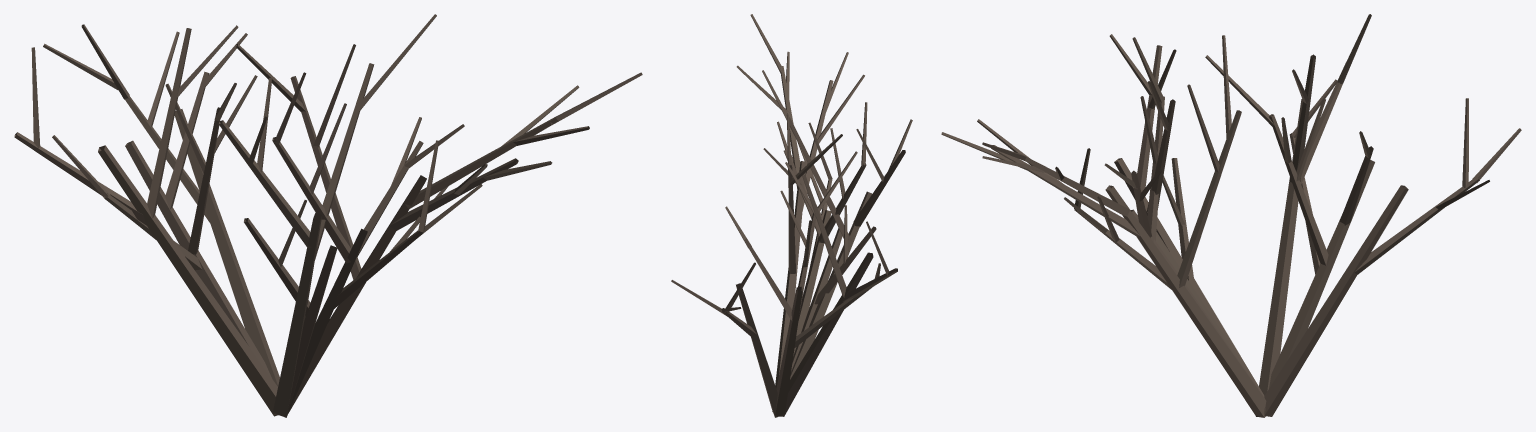
The model's file is ZR_DeadShrub_B.fbx.
The picture shows the model from 3 angles, left to right: view 1: azimuth 30°, elevation 25°; view 2: azimuth 150°, elevation 25°; view 3: azimuth 270°, elevation 25°; orthographic projection. The views are drawn at different scales.
Parts seen in each view (by area): view 1: ZR_DeadShrub_B; view 2: ZR_DeadShrub_B; view 3: ZR_DeadShrub_B.
Boxes of the visible parts, <box> form: ZR_DeadShrub_B: <box>14,14,642,417</box>; ZR_DeadShrub_B: <box>671,14,912,417</box>; ZR_DeadShrub_B: <box>941,14,1521,417</box>.
Bounding box in the file's own units: 1.63 × 1.58 × 2.23.
